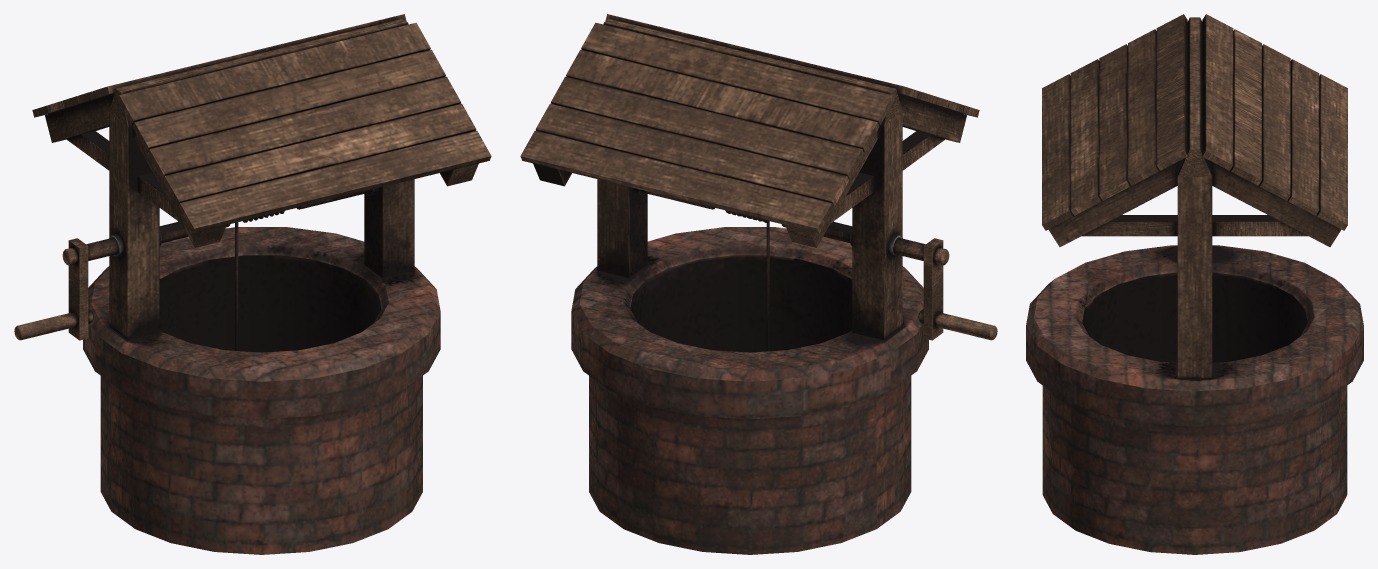
File: well_01.fbx
3 views of the same model, side by side, from view 1: azimuth 30°, elevation 25°; view 2: azimuth 150°, elevation 25°; view 3: azimuth 270°, elevation 25° (orthographic). The views are drawn at different scales.
Visible parts, largest first — view 1: well_01; view 2: well_01; view 3: well_01.
Boxes of the visible parts, x1,y1,x2,y2 form: well_01: (14,14,491,554); well_01: (520,14,997,554); well_01: (1026,14,1363,554).
Size of the model in its own units: 2.8 by 2.9 by 2.17.
1 material, 1 textured.
